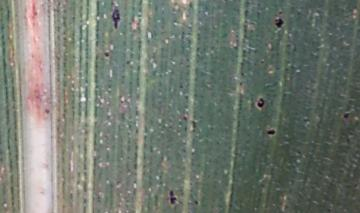tarspot: (109, 4, 123, 33), (253, 93, 269, 114), (165, 187, 179, 208), (271, 16, 287, 33), (263, 125, 279, 139), (340, 110, 353, 123), (103, 46, 112, 62), (181, 112, 191, 124), (191, 118, 198, 134), (275, 8, 286, 16), (193, 197, 200, 206)
